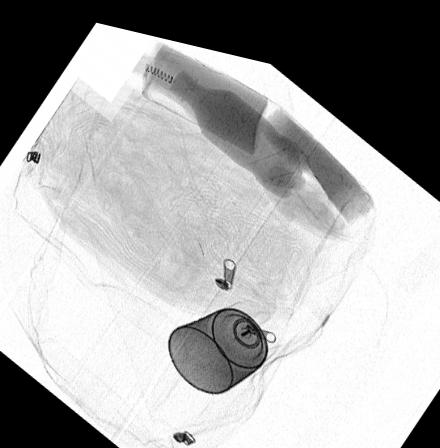Sprayer: (168, 286, 283, 385)
